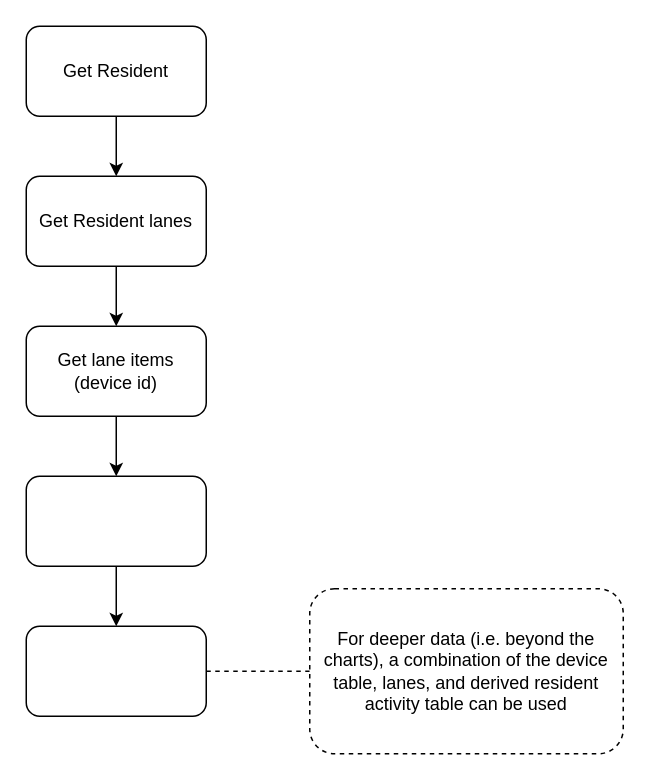
Image size: 650x780. Some labels were removed from this diagram. The centre of each missing label's shape, as x and y in pixels:
"Display data" belongs at (115,670).
"Get derived activities using device_id" belongs at (115,520).
